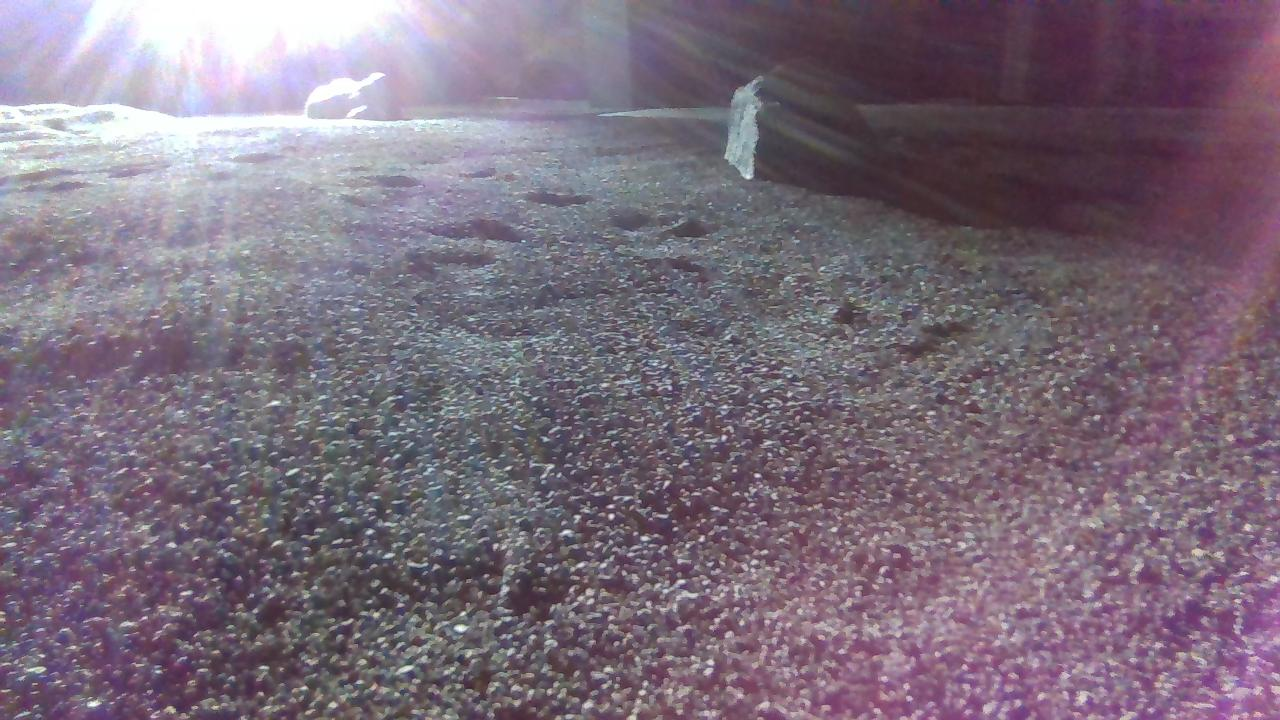rock: (722, 67, 881, 180), (304, 70, 400, 117)
